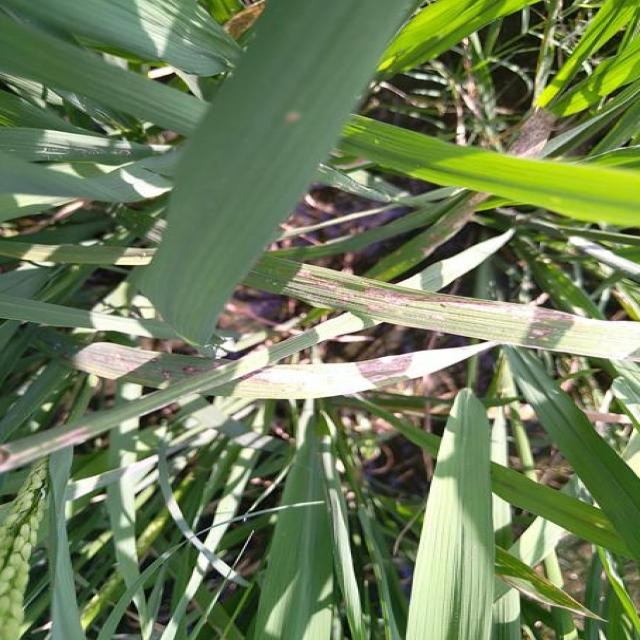Leaf Streak: (240, 253, 640, 360), (230, 341, 496, 396), (367, 188, 507, 280), (30, 323, 219, 384), (493, 545, 608, 621), (0, 421, 100, 469), (0, 239, 156, 266), (507, 106, 554, 157)
